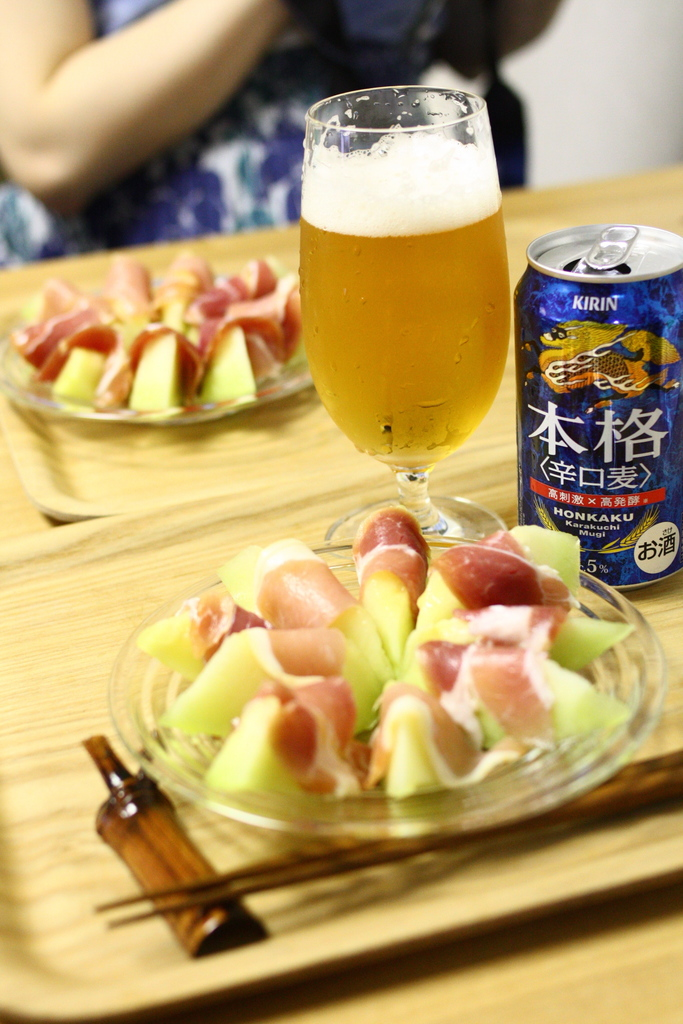Beer: (508, 225, 682, 588), (298, 177, 506, 462)
